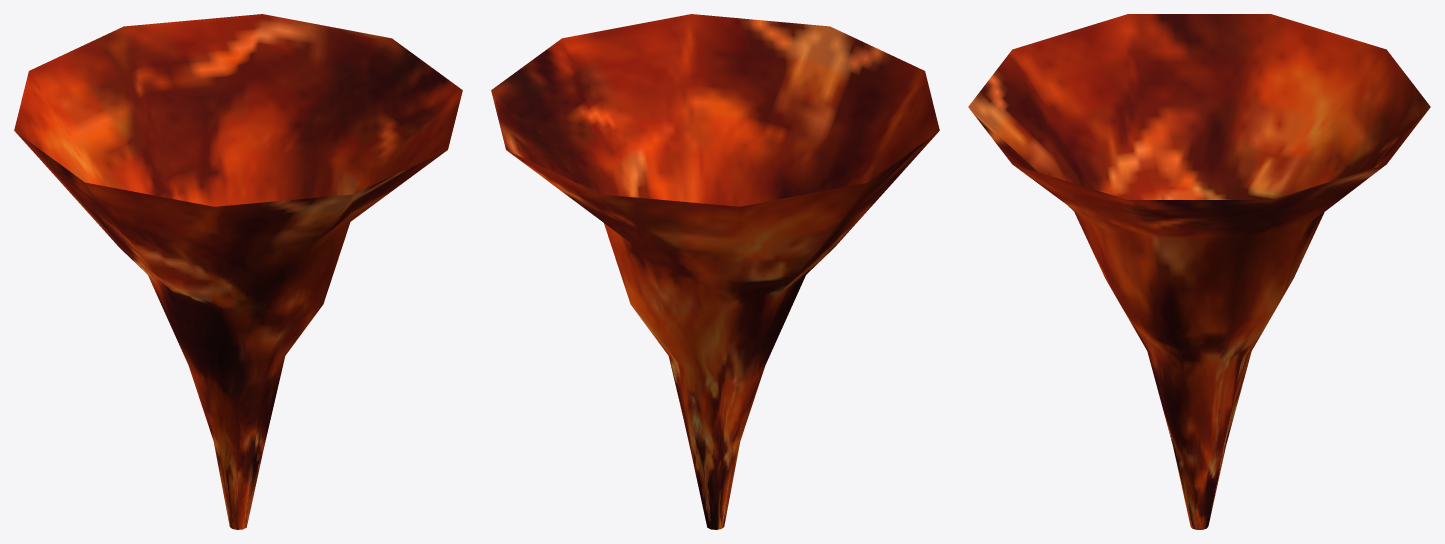
File: LavaSpire.glb
3 views of the same model, side by side, from view 1: azimuth 30°, elevation 25°; view 2: azimuth 150°, elevation 25°; view 3: azimuth 270°, elevation 25° (orthographic).
Visible parts, largest first — view 1: Spire; view 2: Spire; view 3: Spire.
Part boxes in pixels (x1=…): Spire: x1=14, y1=14, x2=462, y2=529; Spire: x1=491, y1=14, x2=939, y2=529; Spire: x1=968, y1=14, x2=1430, y2=529.
Size of the model in its own units: 1.9 by 2 by 2.
Materials: 1 (1 with a texture image).
